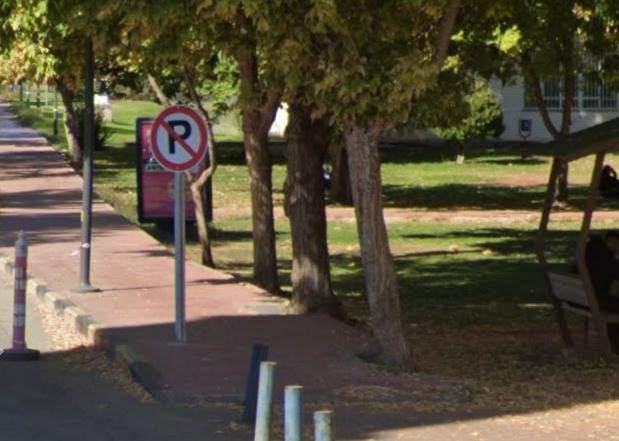nopark: (149, 107, 206, 168)
